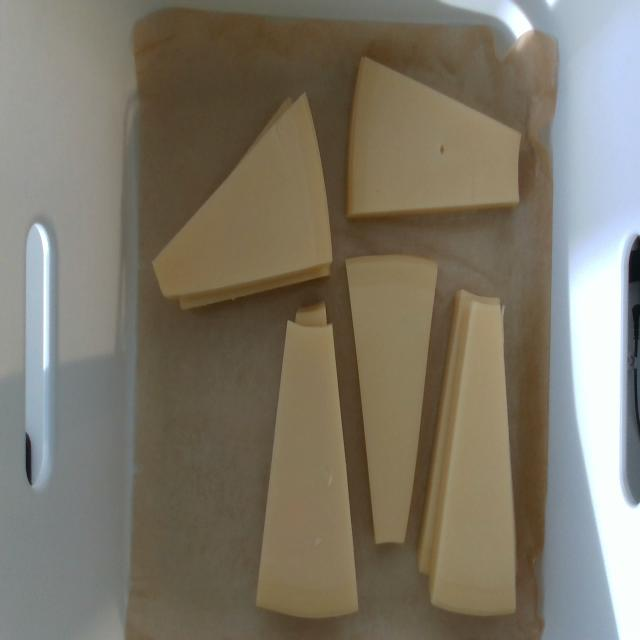Cheese: (156, 94, 333, 295), (256, 322, 358, 617), (348, 59, 519, 217), (346, 255, 437, 543), (434, 300, 514, 614)
